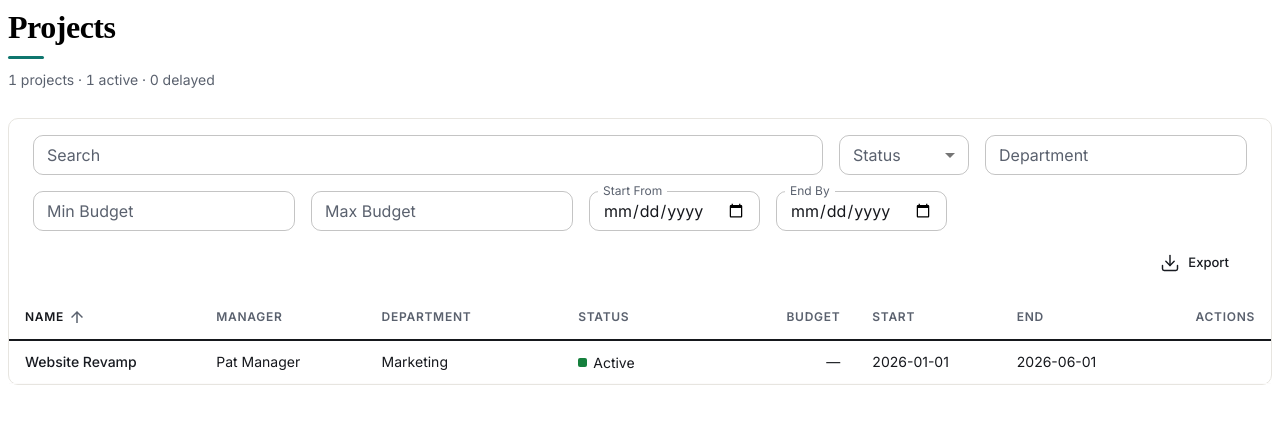
Scenario: Projects page › filters › keeps the filter toolbar reachable when a filter matches nothing
This screenshot has width=1280, height=445.
Expected: the link "Website Revamp" is shown, [25, 353, 137, 370]
Type "zzz" into the field labelled "Search" at {"x": 428, "y": 155}, box [33, 135, 823, 175]
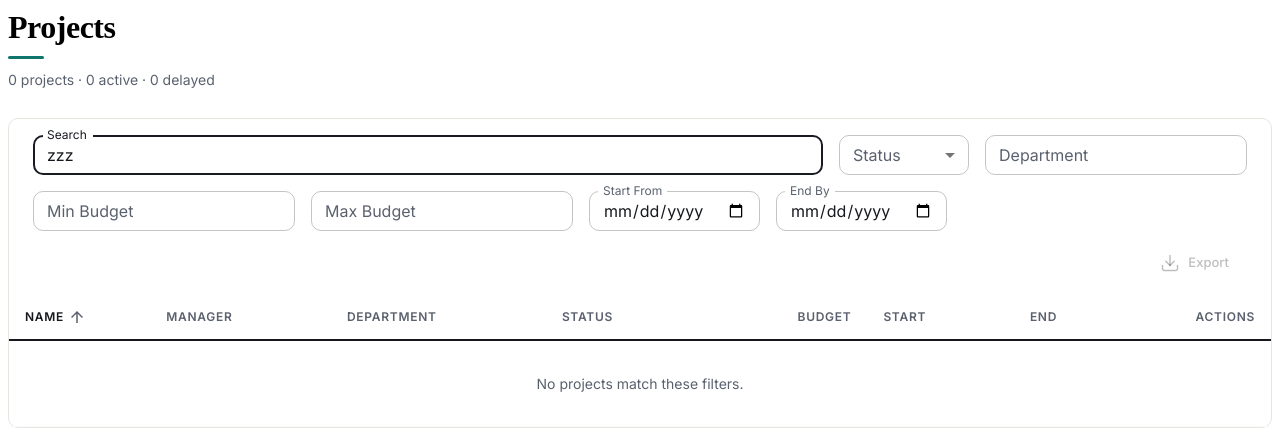
Result: the text "No projects match these filters." is shown at [9, 340, 1271, 426]
